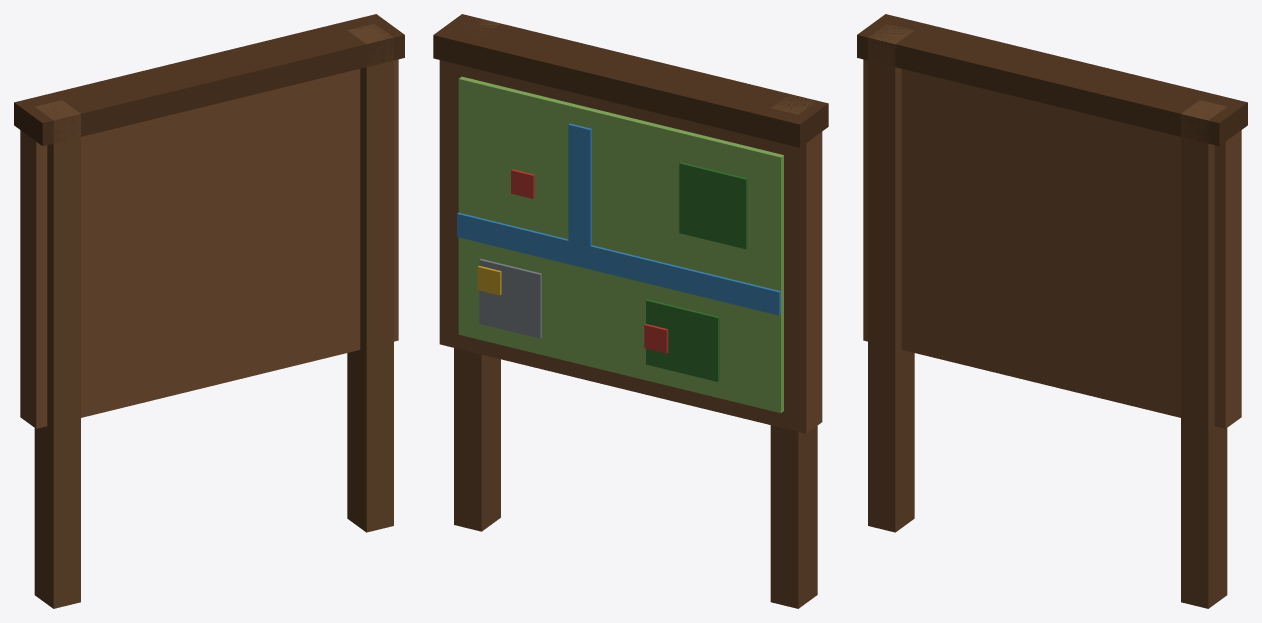
The model's file is kr-map-board.glb.
3 renders of one model, left to right at view 1: azimuth 30°, elevation 25°; view 2: azimuth 150°, elevation 25°; view 3: azimuth 330°, elevation 25°, orthographic.
Visible parts, largest first — view 1: box-prop; view 2: box-prop; view 3: box-prop.
Part boxes in pixels (box(x1,y1,x2,y2)): box-prop: box(14, 14, 404, 608); box-prop: box(433, 14, 828, 608); box-prop: box(857, 14, 1247, 608).
Bounding box in the file's own units: 1.32 × 1.7 × 0.18.
